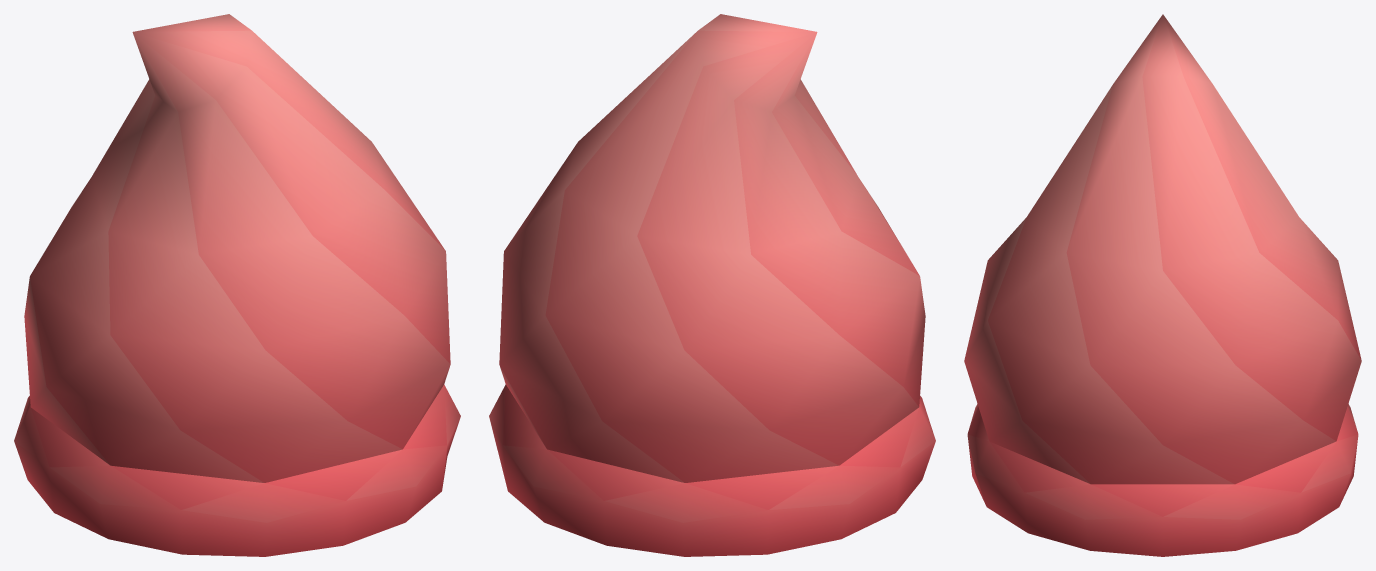
Rendered from icecream_softserve_icecream_strawberry.obj.
The picture shows the model from 3 angles, left to right: view 1: azimuth 30°, elevation 25°; view 2: azimuth 150°, elevation 25°; view 3: azimuth 270°, elevation 25°; orthographic projection. The views are drawn at different scales.
Parts seen in each view (by area): view 1: icecream_softserve_icecream_strawberry_Sphere.127; view 2: icecream_softserve_icecream_strawberry_Sphere.127; view 3: icecream_softserve_icecream_strawberry_Sphere.127.
Part boxes in pixels (x1,y1,x2,y2): icecream_softserve_icecream_strawberry_Sphere.127: [14, 14, 460, 556]; icecream_softserve_icecream_strawberry_Sphere.127: [489, 14, 935, 556]; icecream_softserve_icecream_strawberry_Sphere.127: [964, 14, 1361, 556].
Bounding box in the file's own units: 0.4499 × 0.5359 × 0.45.
1 material, 1 textured.
